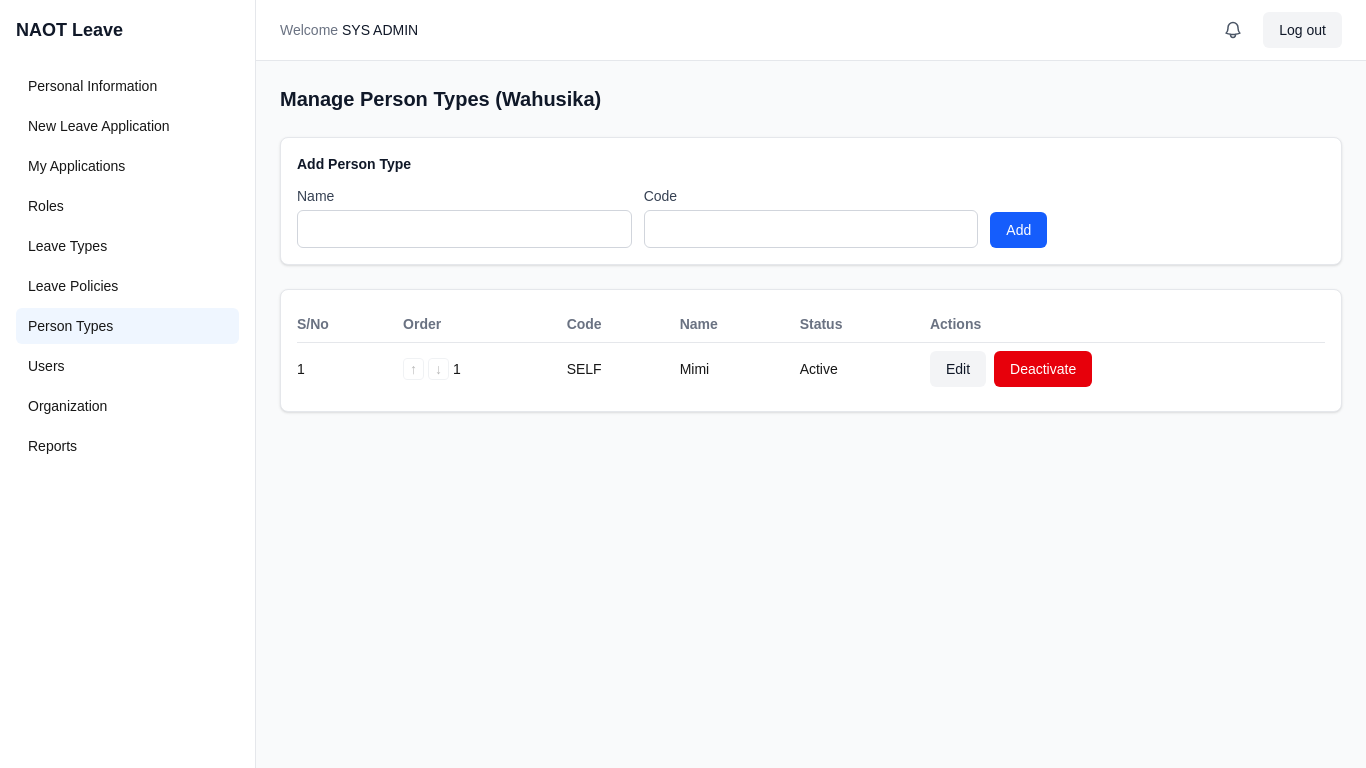
Test: AdminPersonTypesPage › Cancel discards edits without saving
Check: the text "Mimi" is shown, box [680, 342, 800, 395]
Click the button "Edit" at (958, 369), box [930, 351, 986, 387]
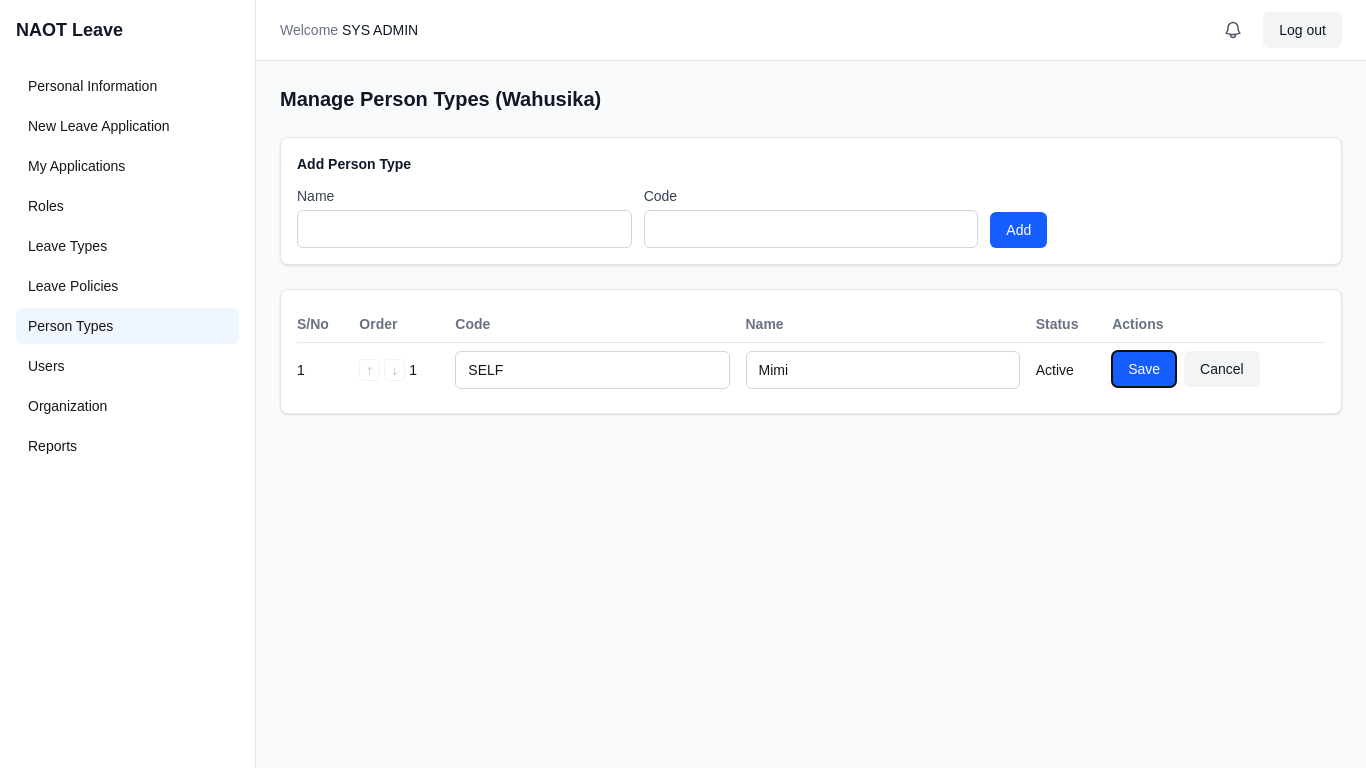
Type " extra" into the field named "Edit name" at (883, 370), box [746, 351, 1020, 389]
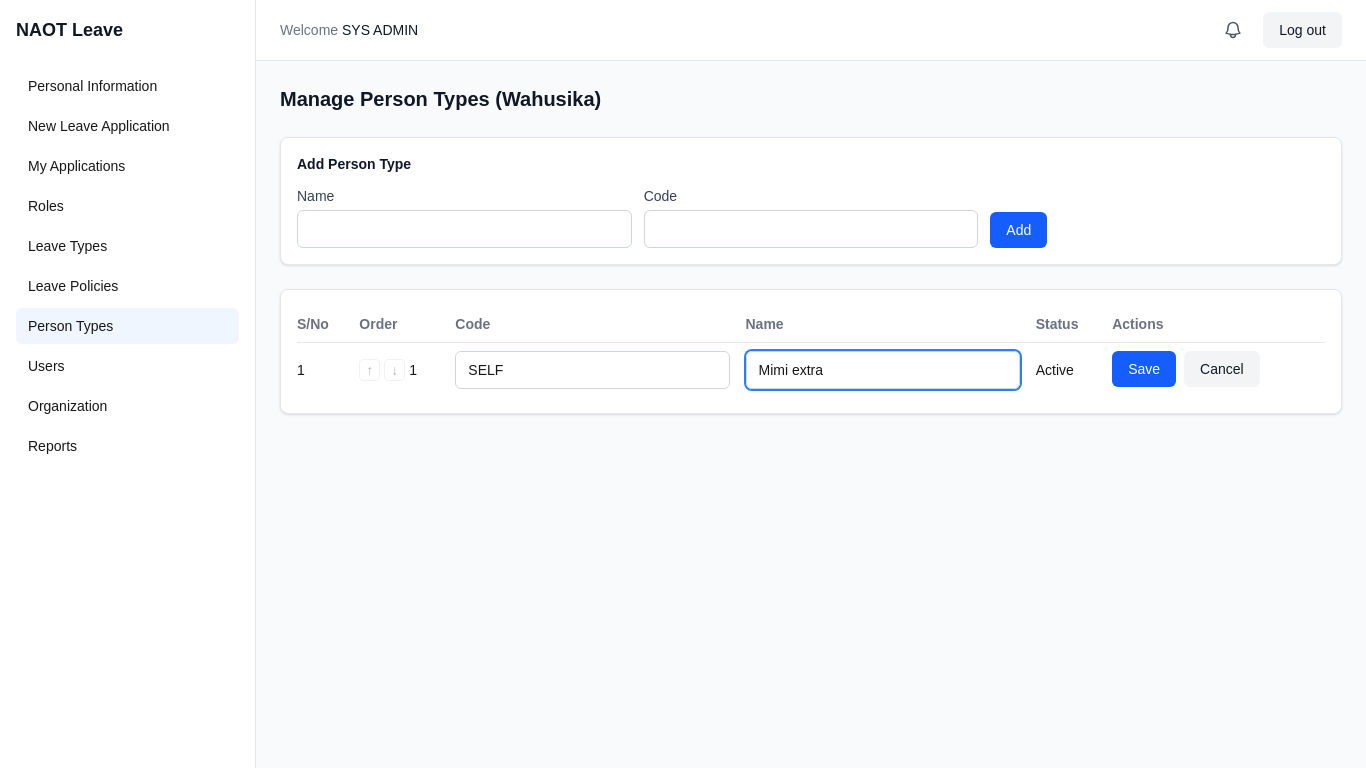
Click the button "Cancel" at (1222, 369), box [1184, 351, 1260, 387]
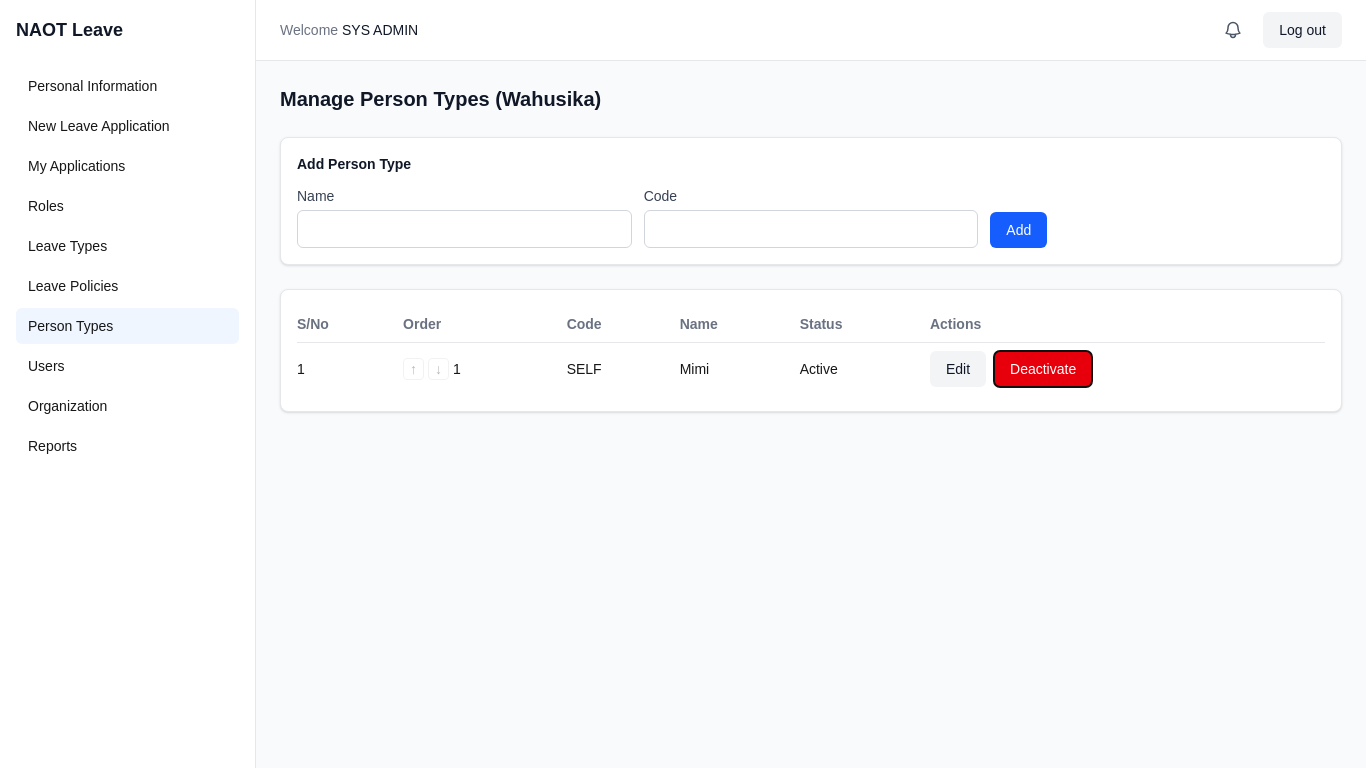
Check: the text "Mimi" is shown, box [680, 342, 800, 395]
